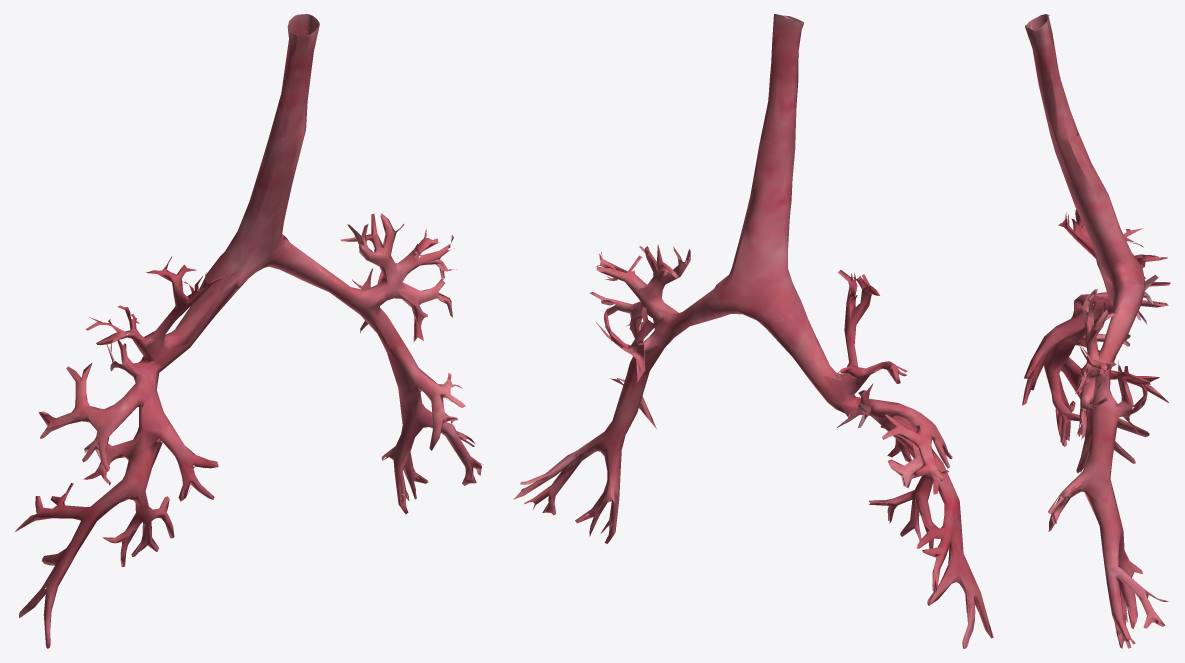
Rendered from Phoi (separated faces).fbx.
3 renders of one model, left to right at view 1: azimuth 30°, elevation 25°; view 2: azimuth 150°, elevation 25°; view 3: azimuth 270°, elevation 25°, orthographic. The views are drawn at different scales.
Visible parts, largest first — view 1: no part large enough to name; view 2: no part large enough to name; view 3: Trachea_Trachea_mat_0.2851, Trachea_Trachea_mat_0.617, Trachea_Trachea_mat_0.2409, Trachea_Trachea_mat_0.1457, Trachea_Trachea_mat_0.951, Trachea_Trachea_mat_0.2402, Trachea_Trachea_mat_0.1349, Trachea_Trachea_mat_0.1350, Trachea_Trachea_mat_0.3295, Trachea_Trachea_mat_0.1447, Trachea_Trachea_mat_0.1478.
Boxes of the visible parts, <box> form: Trachea_Trachea_mat_0.2851: <box>1097,408,1113,457</box>; Trachea_Trachea_mat_0.617: <box>1093,194,1116,260</box>; Trachea_Trachea_mat_0.2409: <box>1118,289,1135,334</box>; Trachea_Trachea_mat_0.1457: <box>1058,140,1085,196</box>; Trachea_Trachea_mat_0.951: <box>1092,396,1101,460</box>; Trachea_Trachea_mat_0.2402: <box>1104,290,1127,355</box>; Trachea_Trachea_mat_0.1349: <box>1041,58,1052,116</box>; Trachea_Trachea_mat_0.1350: <box>1078,194,1101,243</box>; Trachea_Trachea_mat_0.3295: <box>1059,141,1085,193</box>; Trachea_Trachea_mat_0.1447: <box>1086,192,1101,243</box>; Trachea_Trachea_mat_0.1478: <box>1108,209,1127,256</box>.
Size of the model in its own units: 172 by 207 by 49.23.
